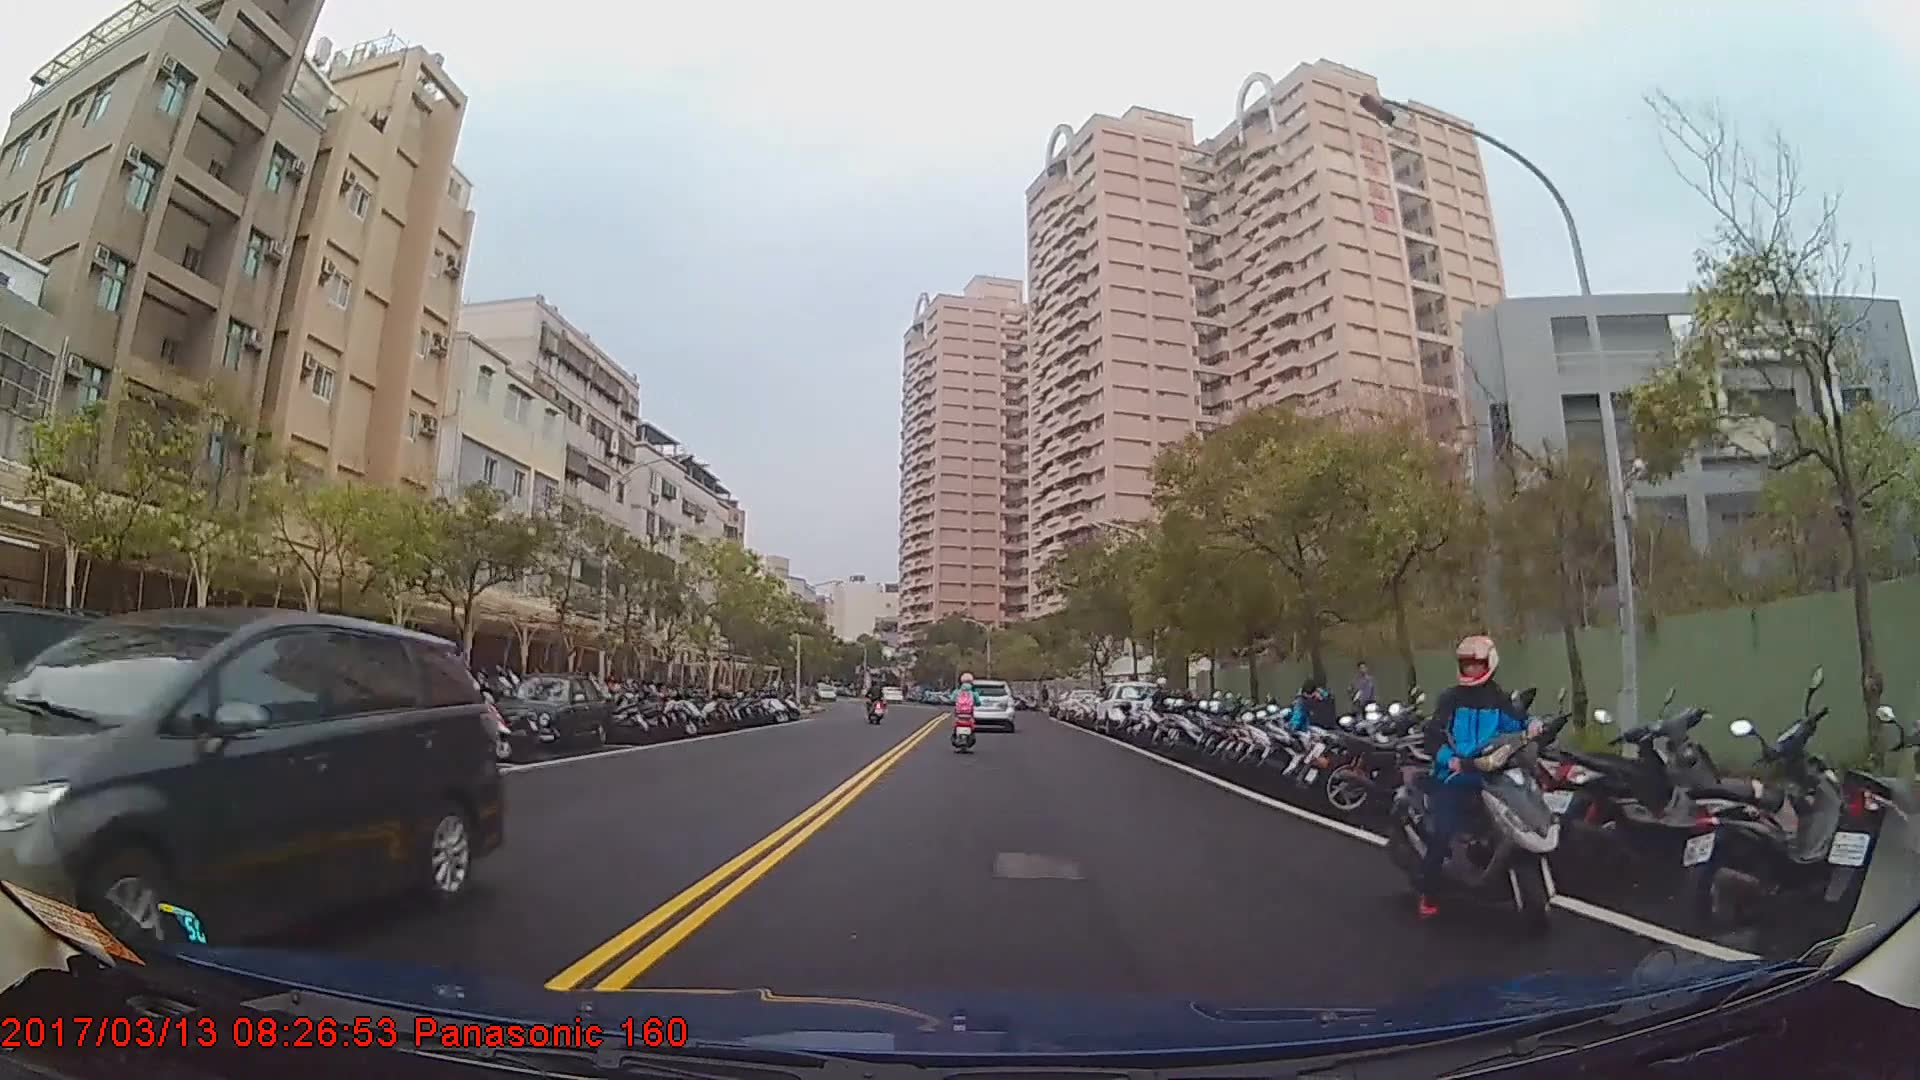pedestrian: (1288, 678, 1338, 779), (1344, 659, 1382, 751)
rider: (1404, 630, 1552, 931), (949, 673, 982, 751), (866, 680, 887, 723)
vehicle: (0, 603, 504, 971), (491, 670, 611, 755), (1094, 678, 1170, 736), (959, 675, 1015, 726)
